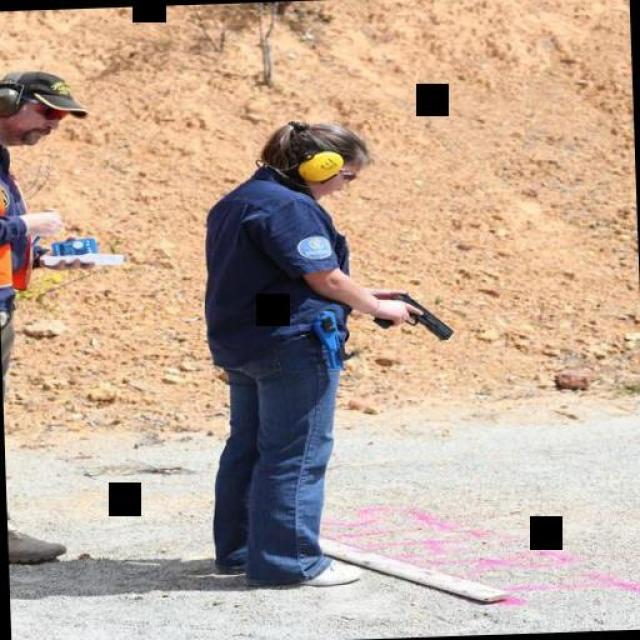gun: (364, 281, 465, 349)
